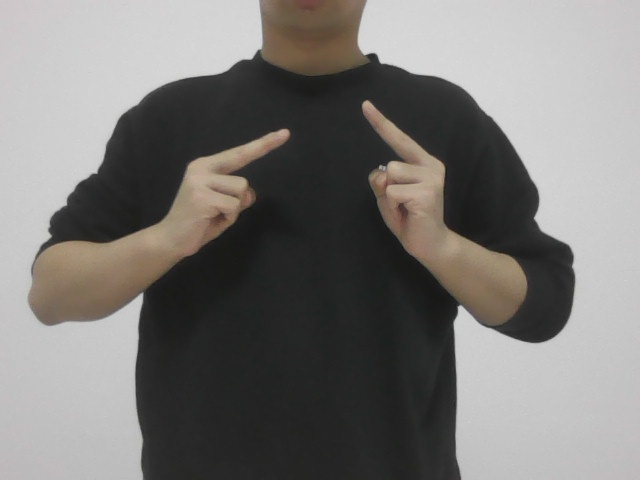know: (169, 110, 447, 281)
